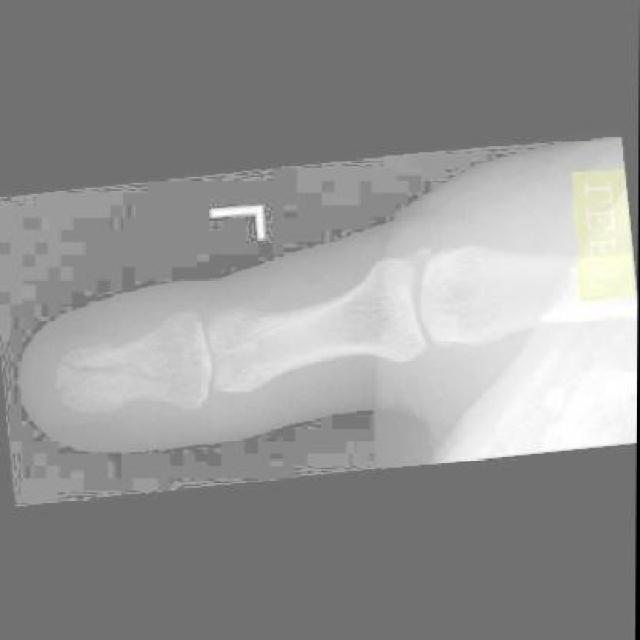Fracture: (49, 333, 176, 413)
